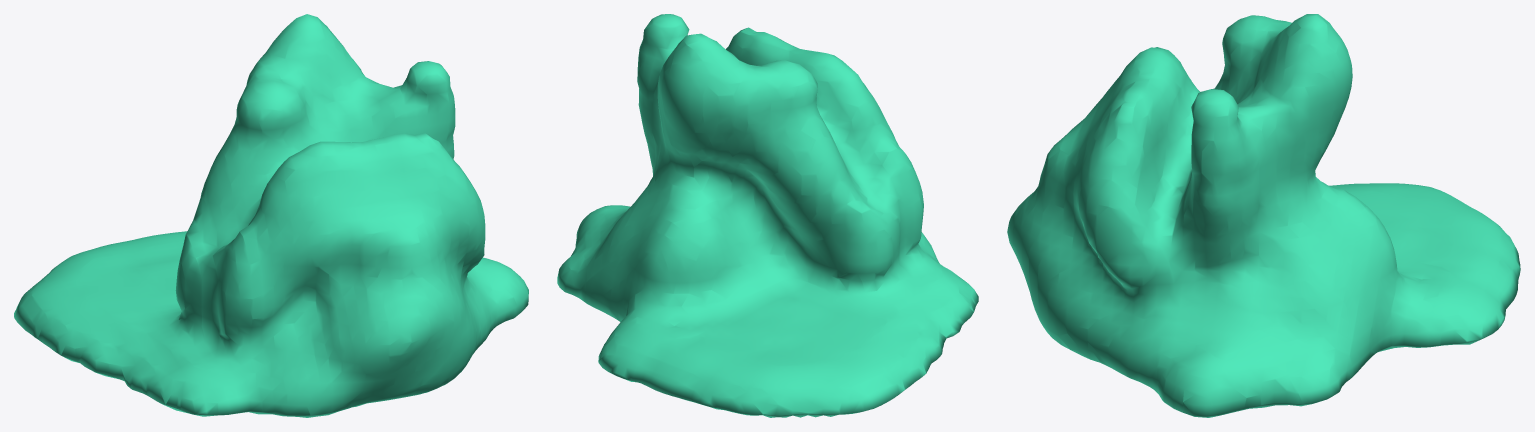
3 views of the same model, side by side, from view 1: azimuth 30°, elevation 25°; view 2: azimuth 150°, elevation 25°; view 3: azimuth 270°, elevation 25° (orthographic). The views are drawn at different scales.
Parts seen in each view (by area): view 1: Liquid_Domain; view 2: Liquid_Domain; view 3: Liquid_Domain.
Boxes of the visible parts, box(x1,y1,x2,y2) form: Liquid_Domain: box(14, 14, 528, 417); Liquid_Domain: box(557, 14, 978, 417); Liquid_Domain: box(1007, 14, 1520, 417).
Bounding box in the file's own units: 5.98 × 4.11 × 5.94.
